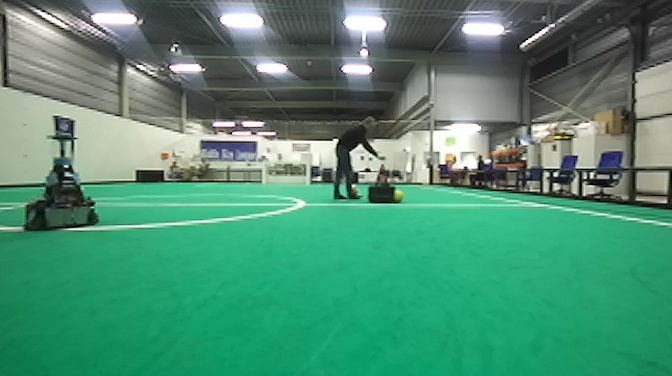ball: (392, 187, 404, 205), (349, 182, 360, 197)
goal: (262, 162, 310, 184)
goalpost: (305, 162, 311, 186), (261, 162, 266, 186)
human: (331, 114, 389, 203)
robot: (19, 112, 102, 234), (367, 154, 399, 205)
